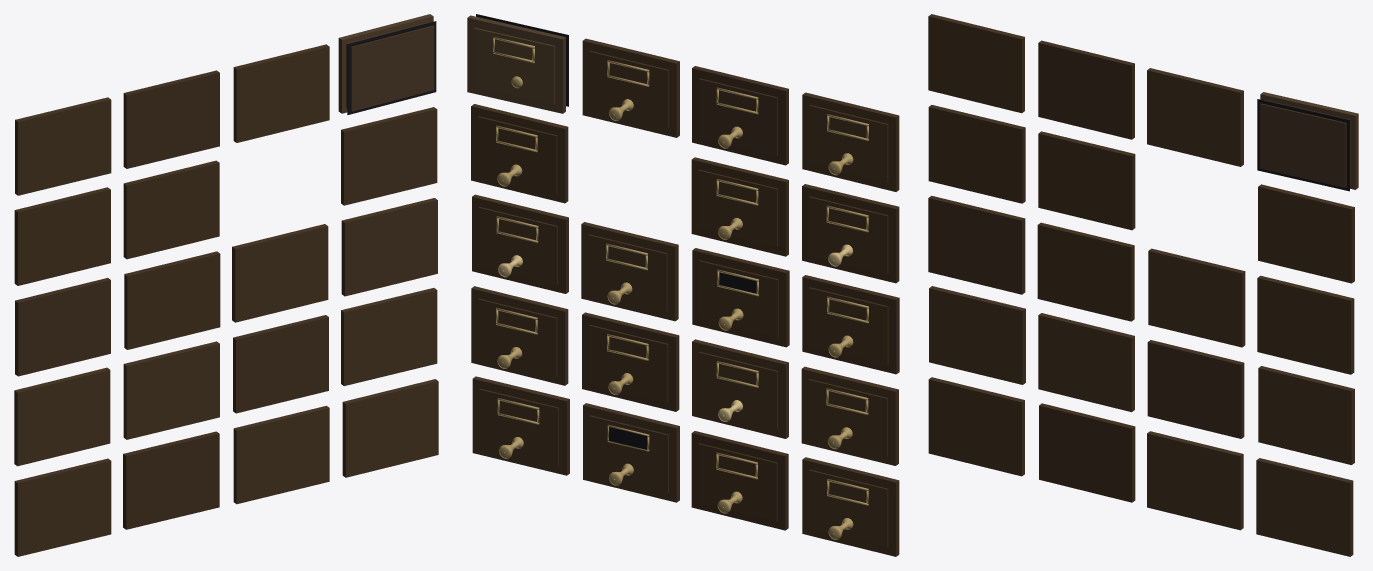
Rendered from card_catalog.glb.
The picture shows the model from 3 angles, left to right: view 1: azimuth 30°, elevation 25°; view 2: azimuth 150°, elevation 25°; view 3: azimuth 330°, elevation 25°; orthographic projection.
Parts seen in each view (by area): view 1: catFaces, catStuck, catDark; view 2: catFaces, catBrass, catStuck, catDark, catBrassWorn; view 3: catFaces, catStuck, catDark.
Part boxes in pixels (bbox=[...]): catFaces: bbox=[14, 44, 438, 556]; catStuck: bbox=[338, 14, 434, 113]; catDark: bbox=[347, 21, 436, 114]; catFaces: bbox=[471, 38, 899, 556]; catBrass: bbox=[496, 60, 868, 539]; catStuck: bbox=[467, 15, 565, 113]; catDark: bbox=[476, 14, 756, 449]; catBrassWorn: bbox=[498, 244, 853, 421]; catFaces: bbox=[928, 14, 1354, 556]; catStuck: bbox=[1260, 92, 1358, 189]; catDark: bbox=[1257, 99, 1349, 191].
Size of the model in its own units: 0.9252 by 0.915 by 0.0805.
